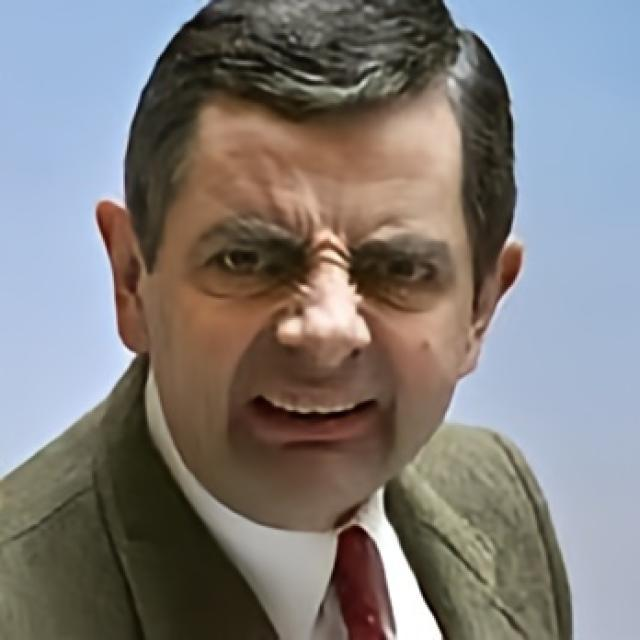disgust: (152, 94, 472, 530)
